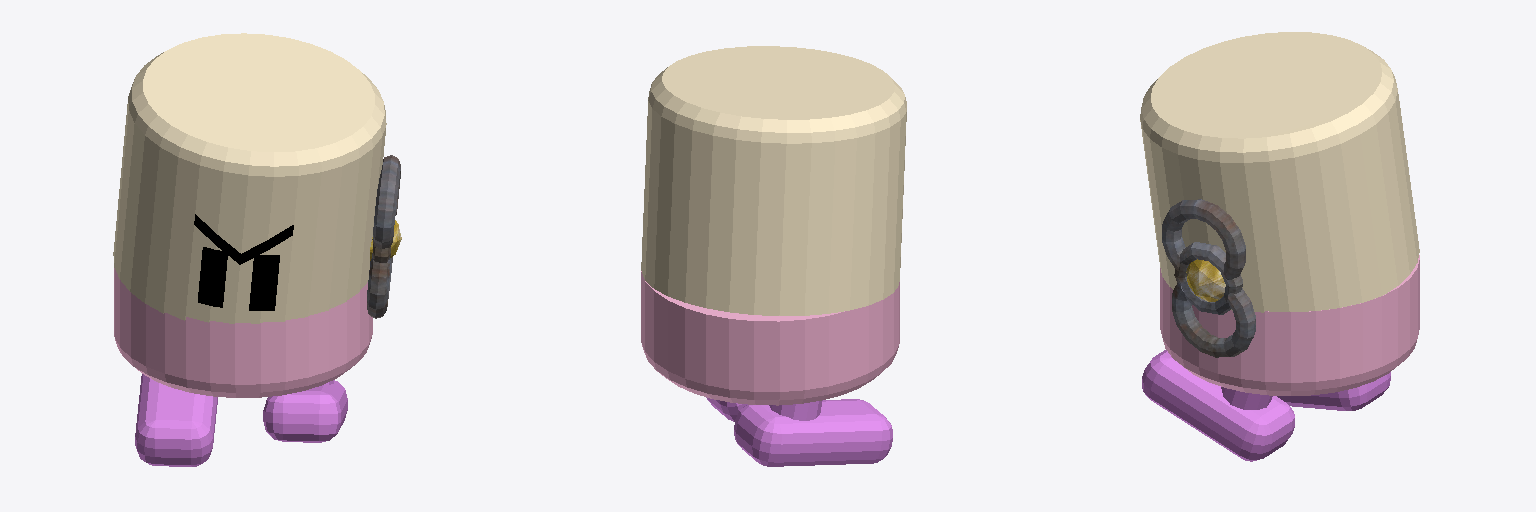
3 renders of one model, left to right at view 1: azimuth 30°, elevation 25°; view 2: azimuth 150°, elevation 25°; view 3: azimuth 270°, elevation 25°, orthographic.
Visible parts, largest first — view 1: Head, Jaw, RightLeg, LeftLeg, WindupKey; view 2: Head, Jaw, RightLeg; view 3: Head, Jaw, WindupKey, LeftLeg, RightLeg.
Part boxes in pixels (bbox=[...]): Head: bbox=[113, 33, 386, 323]; Jaw: bbox=[114, 268, 372, 397]; RightLeg: bbox=[135, 374, 217, 466]; LeftLeg: bbox=[263, 380, 347, 442]; WindupKey: bbox=[367, 155, 401, 318]; Head: bbox=[641, 46, 906, 315]; Jaw: bbox=[641, 271, 899, 405]; RightLeg: bbox=[734, 399, 892, 466]; Head: bbox=[1140, 32, 1419, 312]; Jaw: bbox=[1160, 255, 1419, 395]; WindupKey: bbox=[1162, 199, 1255, 357]; LeftLeg: bbox=[1142, 350, 1294, 461]; RightLeg: bbox=[1277, 372, 1390, 410].
Bounding box in the file's own units: 107 × 155 × 108.
6 materials, 2 textured.